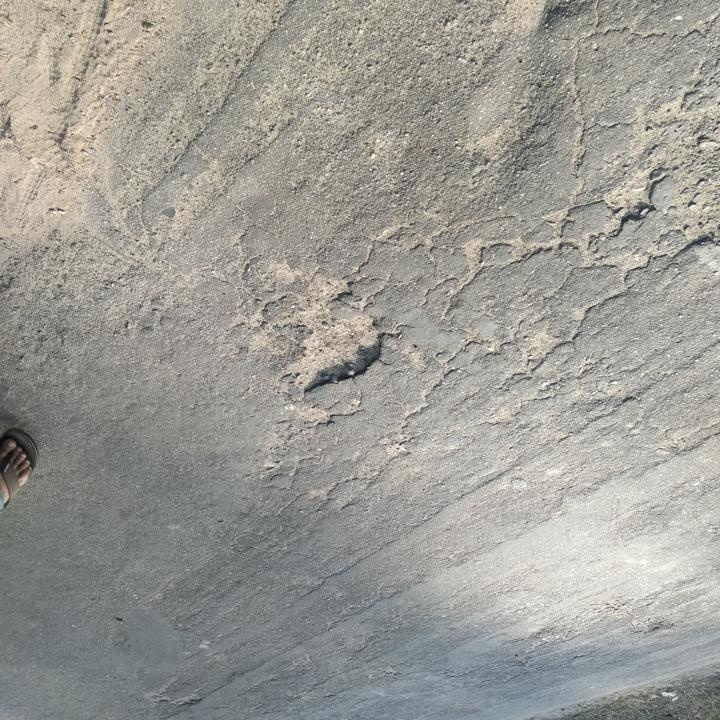pothole: (276, 284, 385, 397), (601, 166, 661, 223)
